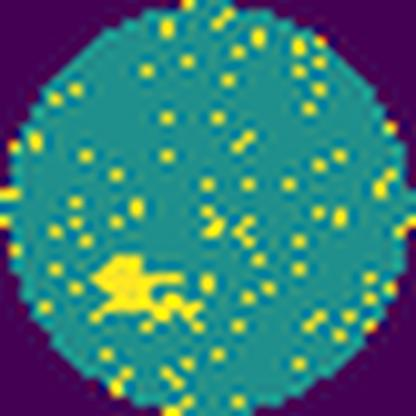Loc: (86, 252, 202, 326)
